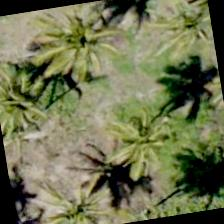Kelapa_Sawit: (92, 89, 196, 192), (30, 0, 133, 93), (0, 49, 71, 149), (19, 156, 121, 223), (142, 0, 218, 76)
